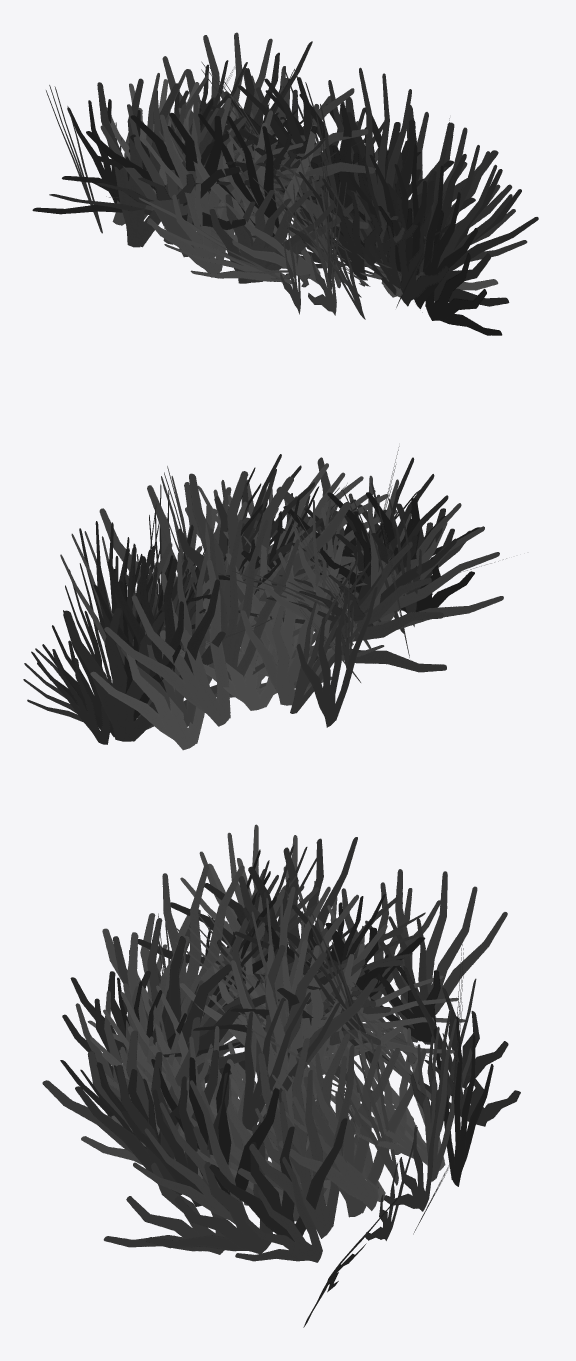
The model's file is geometry nodes eng2 .fbx.
The picture shows the model from 3 angles, top to bottom: view 1: azimuth 30°, elevation 25°; view 2: azimuth 150°, elevation 25°; view 3: azimuth 270°, elevation 25°; orthographic projection. The views are drawn at different scales.
Parts seen in each view (by area): view 1: Retopo_Mball.006; view 2: Retopo_Mball.006; view 3: Retopo_Mball.006.
Part boxes in pixels (bbox=[...]): Retopo_Mball.006: bbox=[32, 32, 538, 335]; Retopo_Mball.006: bbox=[23, 446, 506, 750]; Retopo_Mball.006: bbox=[42, 824, 520, 1327].
Size of the model in its own units: 80.9 by 55.93 by 72.38.
